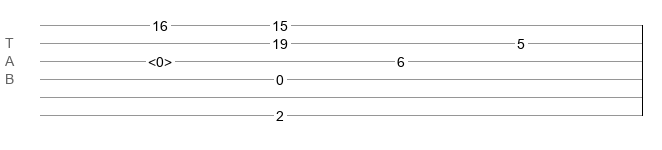0: (276, 72, 284, 82)
15: (272, 18, 288, 28)
16: (152, 18, 168, 28)
19: (272, 36, 288, 46)
2: (276, 108, 284, 118)
5: (517, 36, 525, 46)
6: (397, 54, 405, 64)
harmonic: (148, 54, 172, 64)
